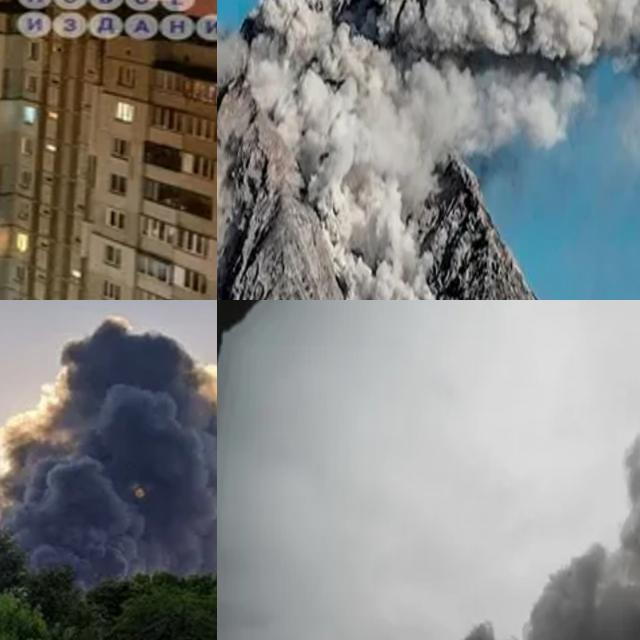smoke: (230, 0, 640, 164), (0, 316, 217, 585), (355, 551, 640, 640)
